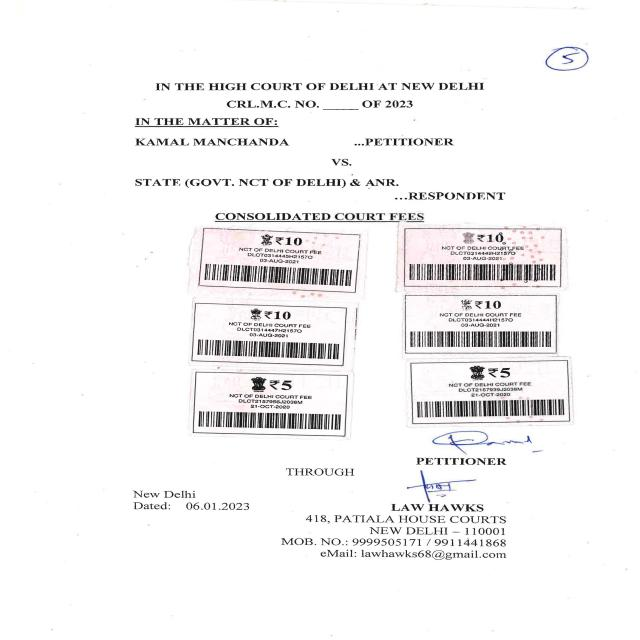page-number: (512, 1, 640, 108)
